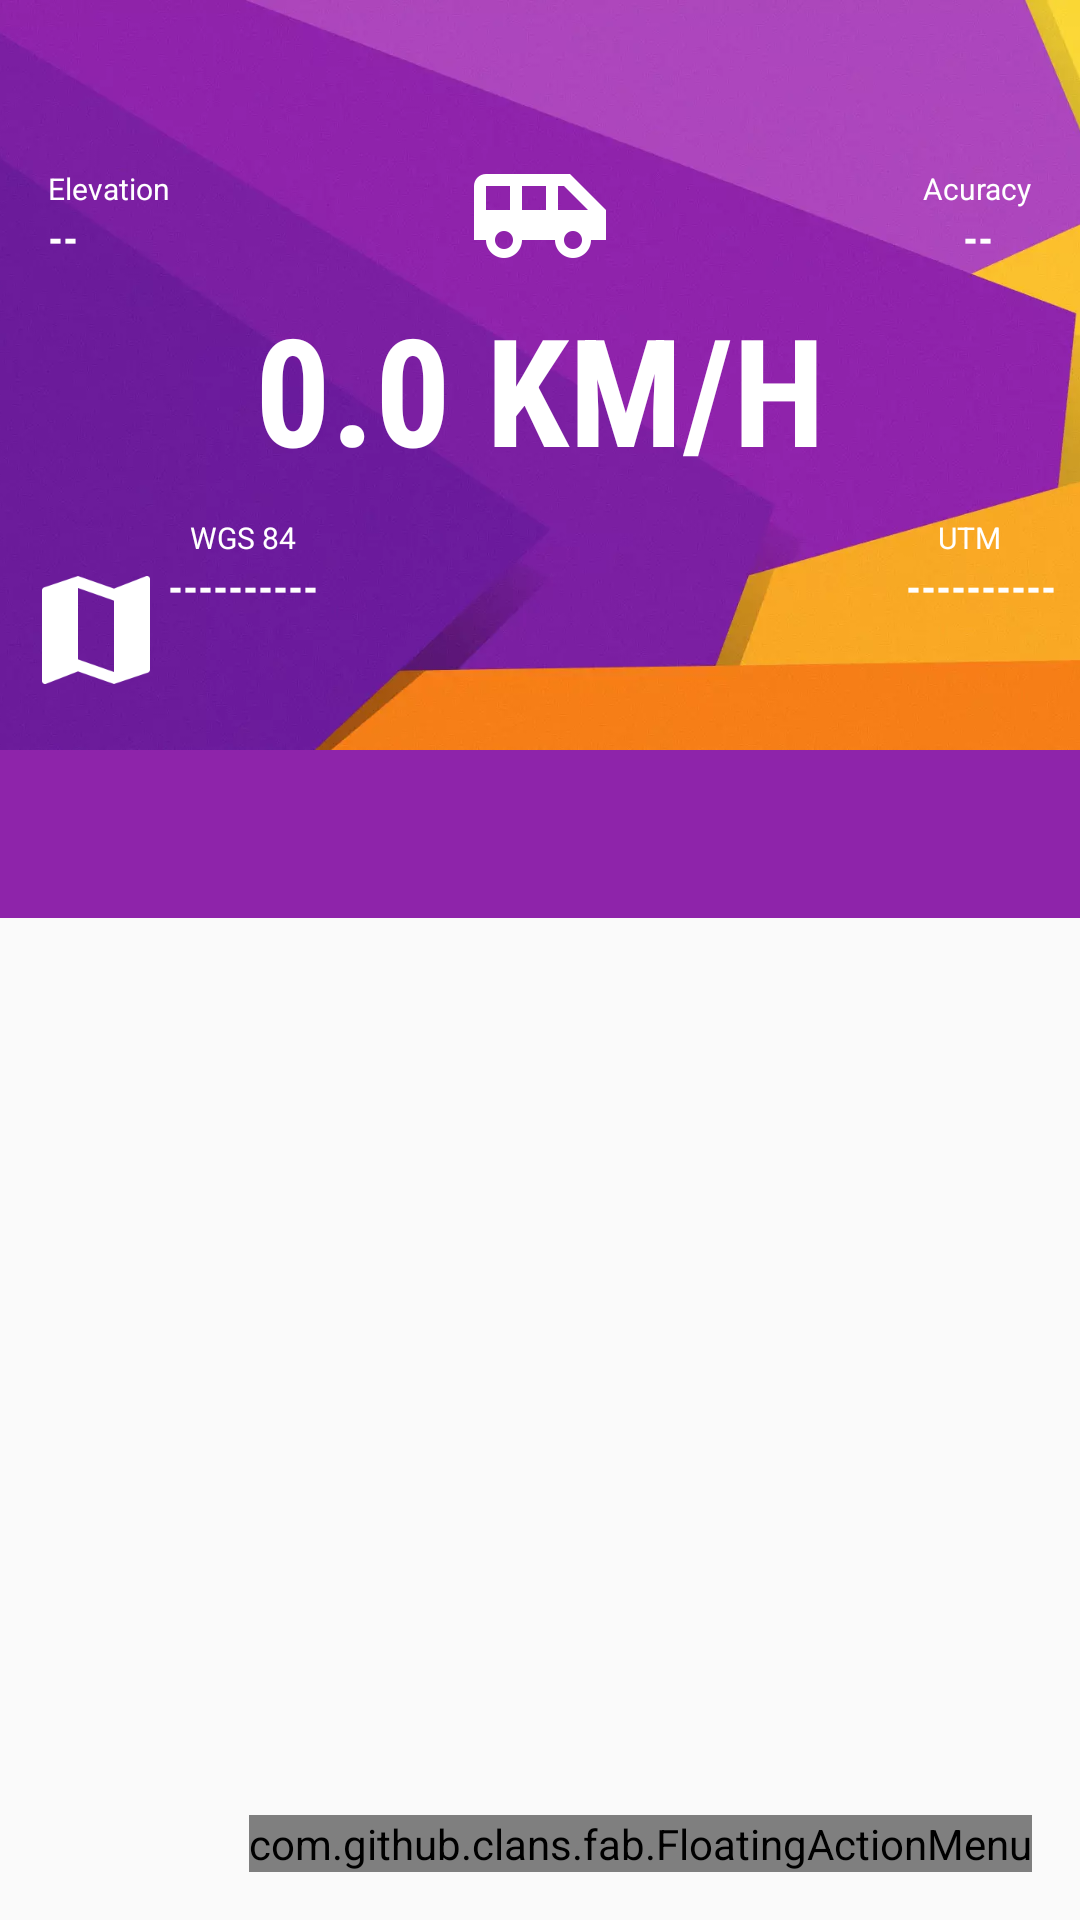

Icons on this 1080w x 1920h Android screen, each with its box as {"left": x1, "top": y1, "right": x2, "bottom": y2}:
airport shuttle: {"left": 474, "top": 174, "right": 606, "bottom": 258}
map: {"left": 42, "top": 576, "right": 150, "bottom": 684}
